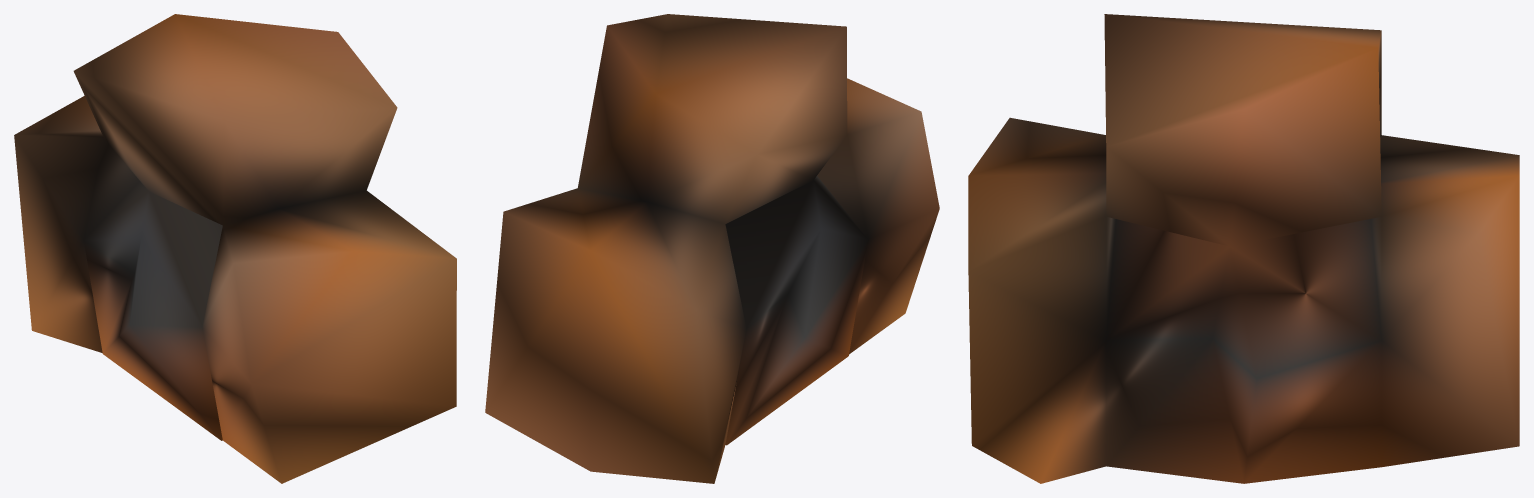
Rendered from battery_box_lod6.glb.
3 renders of one model, left to right at view 1: azimuth 30°, elevation 25°; view 2: azimuth 150°, elevation 25°; view 3: azimuth 270°, elevation 25°, orthographic. The views are drawn at different scales.
Parts seen in each view (by area): view 1: battery_box; view 2: battery_box; view 3: battery_box.
Part boxes in pixels (box(x1,y1,x2,y2)): battery_box: box(14, 14, 456, 483); battery_box: box(485, 14, 939, 483); battery_box: box(968, 14, 1519, 483).
Bounding box in the file's own units: 2.01 × 3.03 × 4.
